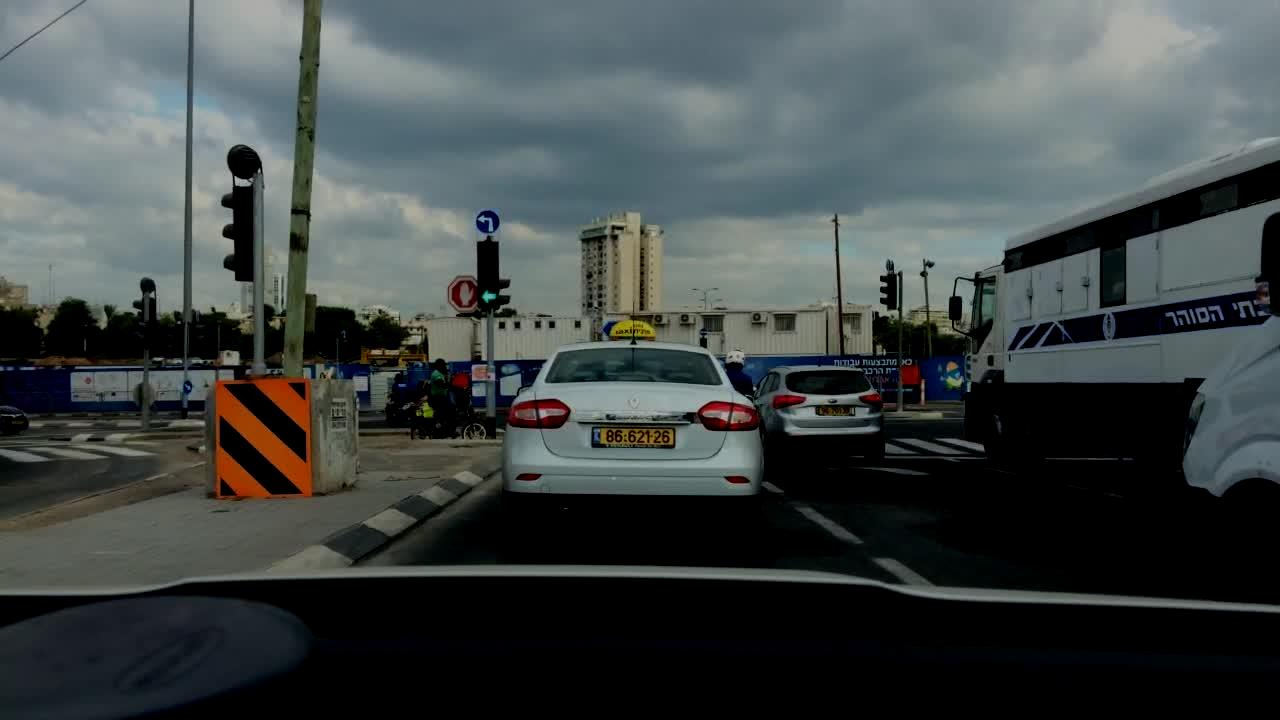Renault: (619, 394, 648, 417)
